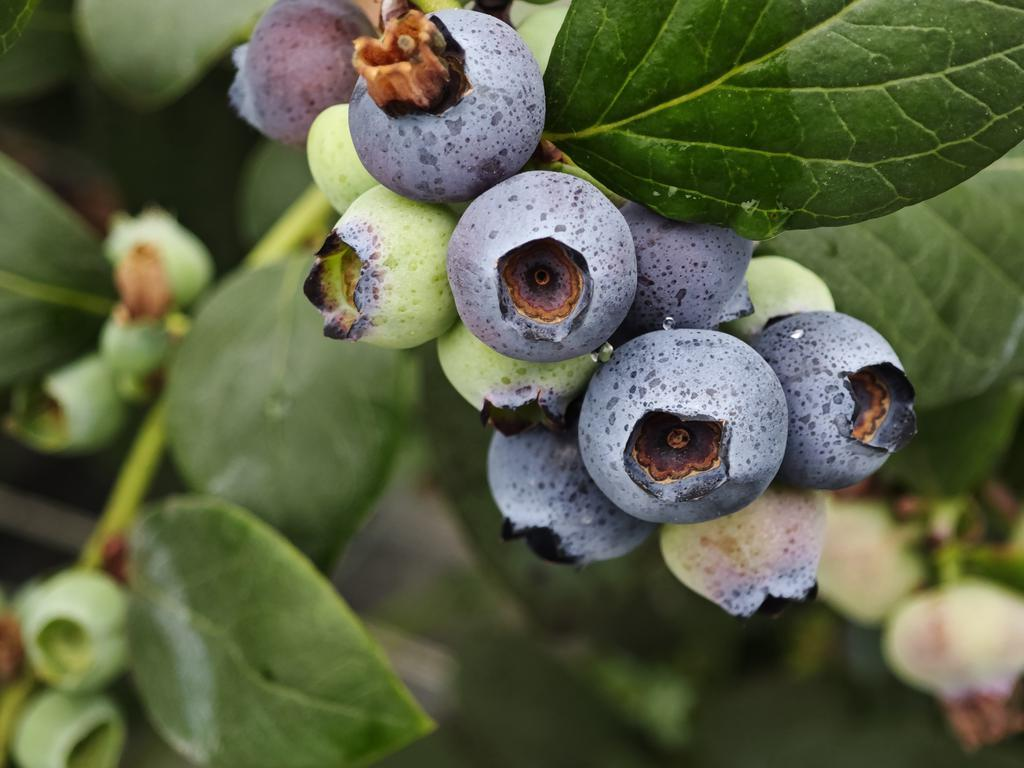RipeBlueBerry: (575, 325, 793, 528), (343, 3, 548, 207), (445, 167, 641, 365), (762, 305, 917, 496)
